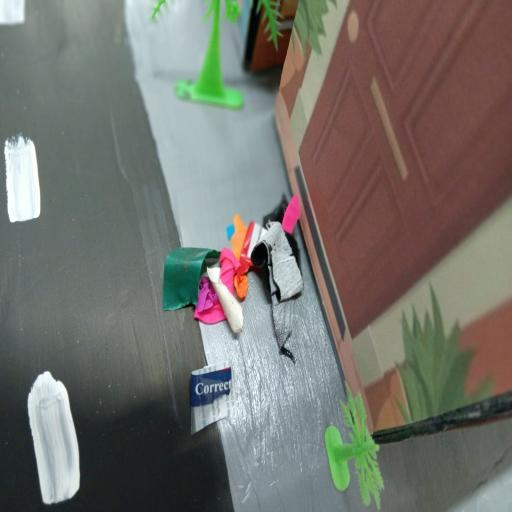trash: (147, 194, 315, 366)
